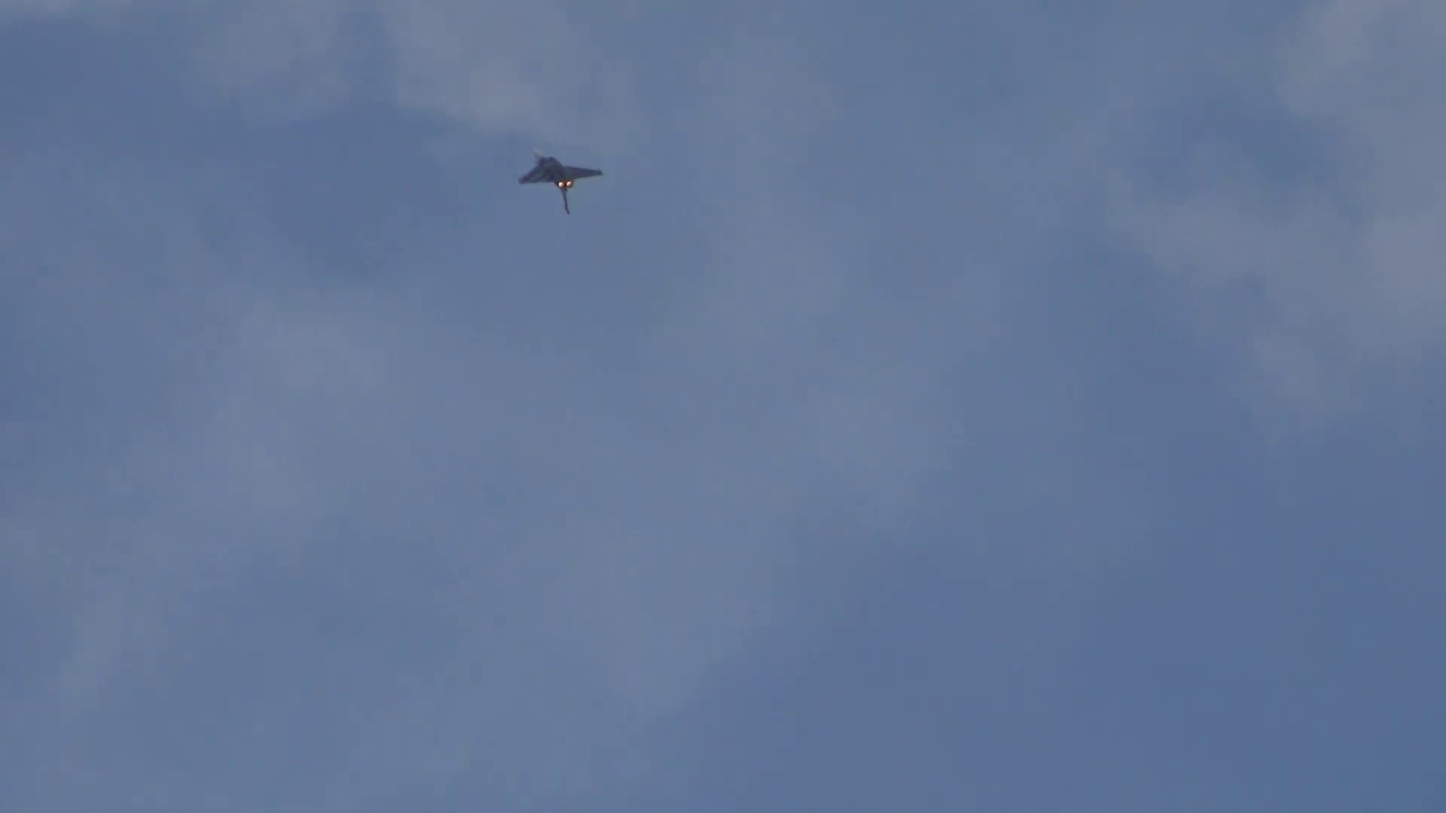Rafale: (515, 146, 609, 217)
